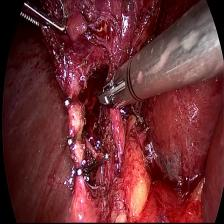Clipper: (96, 44, 141, 126)
Grasper: (18, 0, 68, 48)
